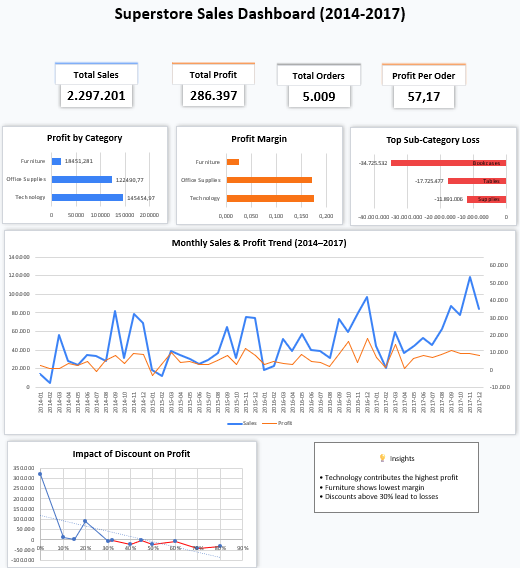

Layout of this report page (visuals, bound fields, positions):
{"tool":"tableau","page":{"name":"Superstore Sales Performance Dashboard (2014–2017)","canvas":[1000,800],"ordinal":0},"visuals":[{"type":"title","box":[8,8,984,52]},{"type":"worksheet","title":"Total Sales","mark":"Text","box":[50,110,170,113]},{"type":"worksheet","title":"Total Profit","mark":"Text","box":[300,110,170,113]},{"type":"worksheet","title":"Total Orders","mark":"Text","box":[550,110,170,113]},{"type":"worksheet","title":"Profit Per Order","mark":"Text","box":[800,110,170,113]},{"type":"worksheet","title":"Monthly Sales & Profit Trend (2014–2017)","mark":"Line","rows":["Sales","Profit"],"cols":["month"],"box":[50,235,632,350]},{"type":"worksheet","title":"Sales & profit Per Category","mark":"Automatic","cols":["Category"],"box":[687,235,291,279]},{"type":"worksheet","title":"Profit Margin","mark":"Automatic","rows":["Category"],"cols":["Calculation_0937401066983427"],"box":[687,519,291,248]},{"type":"text","box":[50,590,182,177]},{"type":"worksheet","title":"Discount on Profit","mark":"Line","rows":["Profit"],"cols":["discount level"],"box":[236,590,213,177]},{"type":"worksheet","title":"Sub Category Loss","mark":"Automatic","rows":["total_loss"],"cols":["Sub-Category"],"box":[454,590,228,177]}]}

Visuals, with their boxes on the page's 1000x800 design canvas (x1, y1, x2, y2). These are canvas units, not pixel positions in the 520x568 screenshot, which may show the page scaled, cropped or inside an application window:
title: [x1=8, y1=8, x2=992, y2=60]
"Total Sales" worksheet (Text marks): [x1=50, y1=110, x2=220, y2=223]
"Total Profit" worksheet (Text marks): [x1=300, y1=110, x2=470, y2=223]
"Total Orders" worksheet (Text marks): [x1=550, y1=110, x2=720, y2=223]
"Profit Per Order" worksheet (Text marks): [x1=800, y1=110, x2=970, y2=223]
"Monthly Sales & Profit Trend (2014–2017)" worksheet (Line marks): [x1=50, y1=235, x2=682, y2=585]
"Sales & profit Per Category" worksheet: [x1=687, y1=235, x2=978, y2=514]
"Profit Margin" worksheet: [x1=687, y1=519, x2=978, y2=767]
text: [x1=50, y1=590, x2=232, y2=767]
"Discount on Profit" worksheet (Line marks): [x1=236, y1=590, x2=449, y2=767]
"Sub Category Loss" worksheet: [x1=454, y1=590, x2=682, y2=767]
